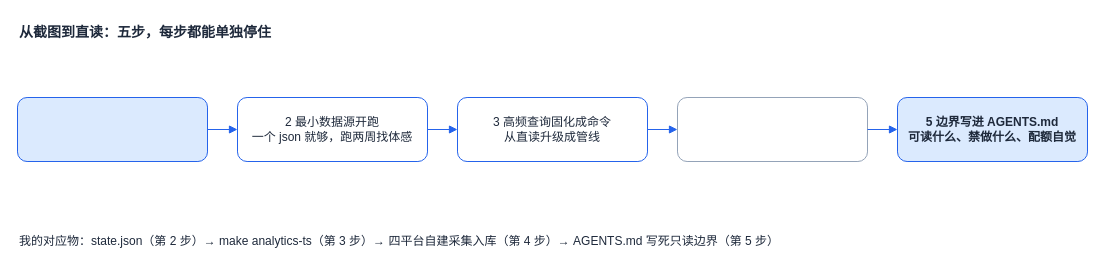
This 1105x265 diagram has some shape labels left out. Here are the shapes that lost their labels. From the top down, the centre of each, then its label:
the point at 112,129: 1 盘点数据源 按难度排序：导出文件<接口<登录态采集
the point at 772,129: 4 接外部源 有官方 MCP 接官方，没有就自建只读采集
